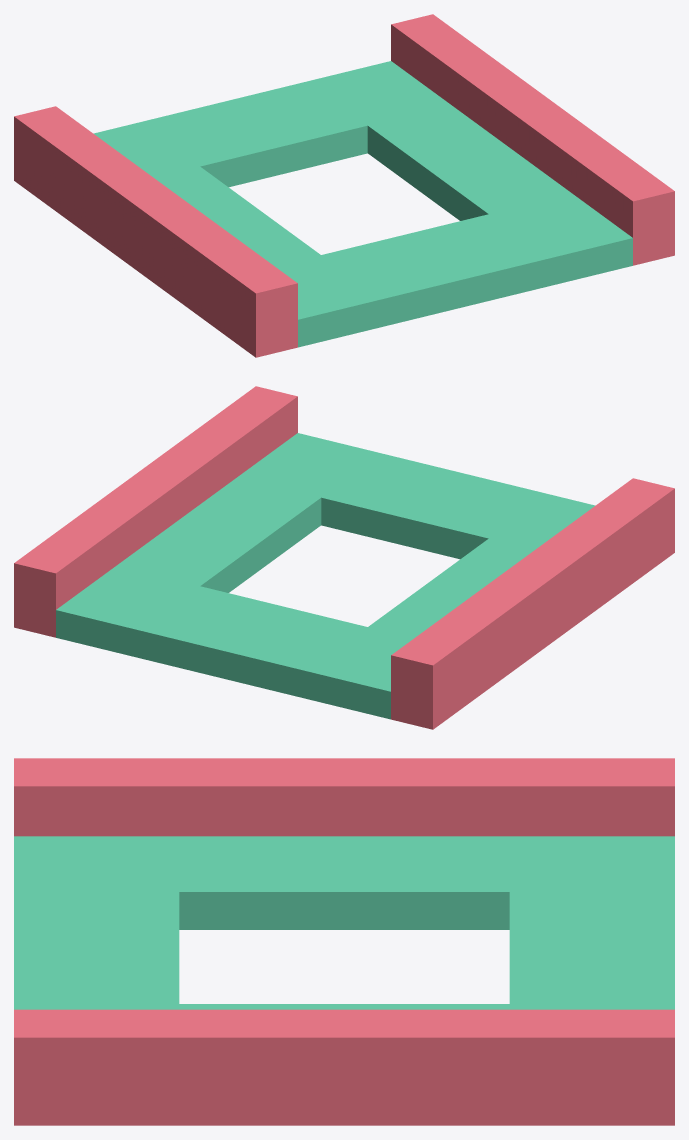
The model's file is myGap.fbx.
3 renders of one model, top to bottom at view 1: azimuth 30°, elevation 25°; view 2: azimuth 150°, elevation 25°; view 3: azimuth 270°, elevation 25°, orthographic. The views are drawn at different scales.
Parts seen in each view (by area): view 1: gapGround, leftGap, rightGap; view 2: gapGround, leftGap, rightGap; view 3: gapGround, rightGap, leftGap.
Boxes of the visible parts, x1=… form: gapGround: x1=93, y1=61, x2=632, y2=347; leftGap: x1=14, y1=106, x2=297, y2=357; rightGap: x1=391, y1=14, x2=674, y2=265; gapGround: x1=56, y1=433, x2=595, y2=719; leftGap: x1=391, y1=478, x2=674, y2=729; rightGap: x1=14, y1=386, x2=297, y2=637; gapGround: x1=14, y1=836, x2=674, y2=1009; rightGap: x1=14, y1=1009, x2=674, y2=1125; leftGap: x1=14, y1=758, x2=674, y2=836.
Size of the model in its own units: 450 by 65.99 by 450.
